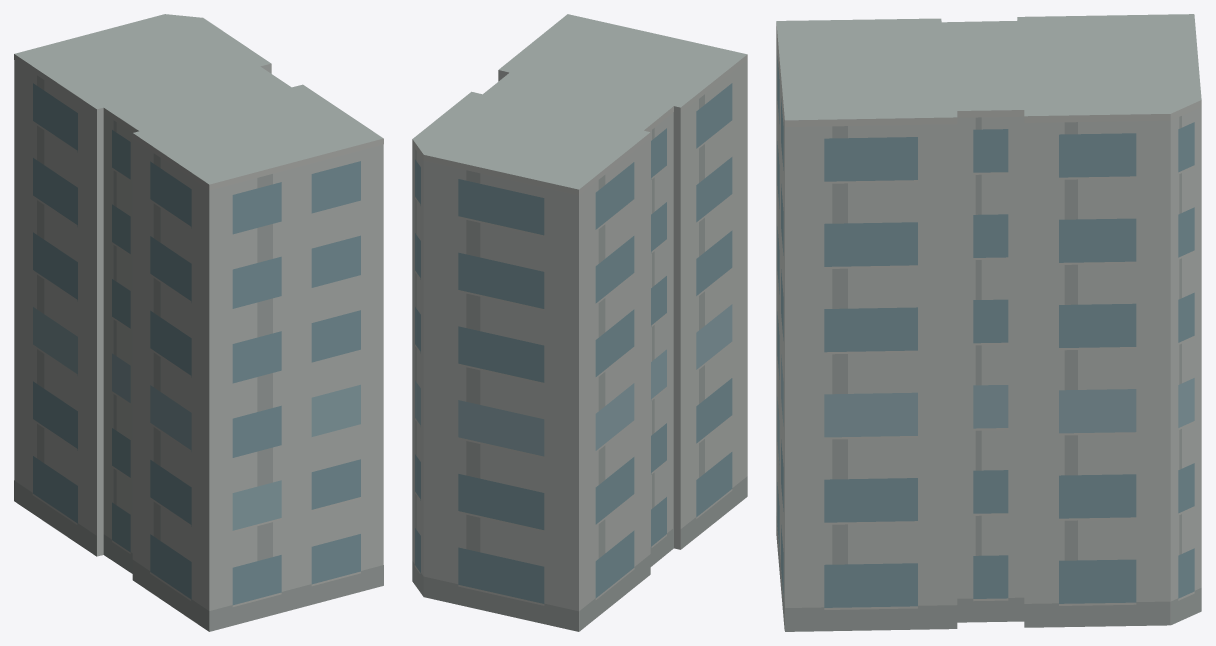
Rendered from survey-upis-32696717.glb.
The picture shows the model from 3 angles, left to right: view 1: azimuth 30°, elevation 25°; view 2: azimuth 150°, elevation 25°; view 3: azimuth 270°, elevation 25°; orthographic projection. The views are drawn at different scales.
Parts seen in each view (by area): view 1: survey-upis-32696717.tmp; view 2: survey-upis-32696717.tmp; view 3: survey-upis-32696717.tmp.
Boxes of the visible parts, <box> form: survey-upis-32696717.tmp: <box>14,14,383,631</box>; survey-upis-32696717.tmp: <box>412,14,747,631</box>; survey-upis-32696717.tmp: <box>776,14,1201,631</box>.
Size of the model in its own units: 8.17 by 18.3 by 13.8.
